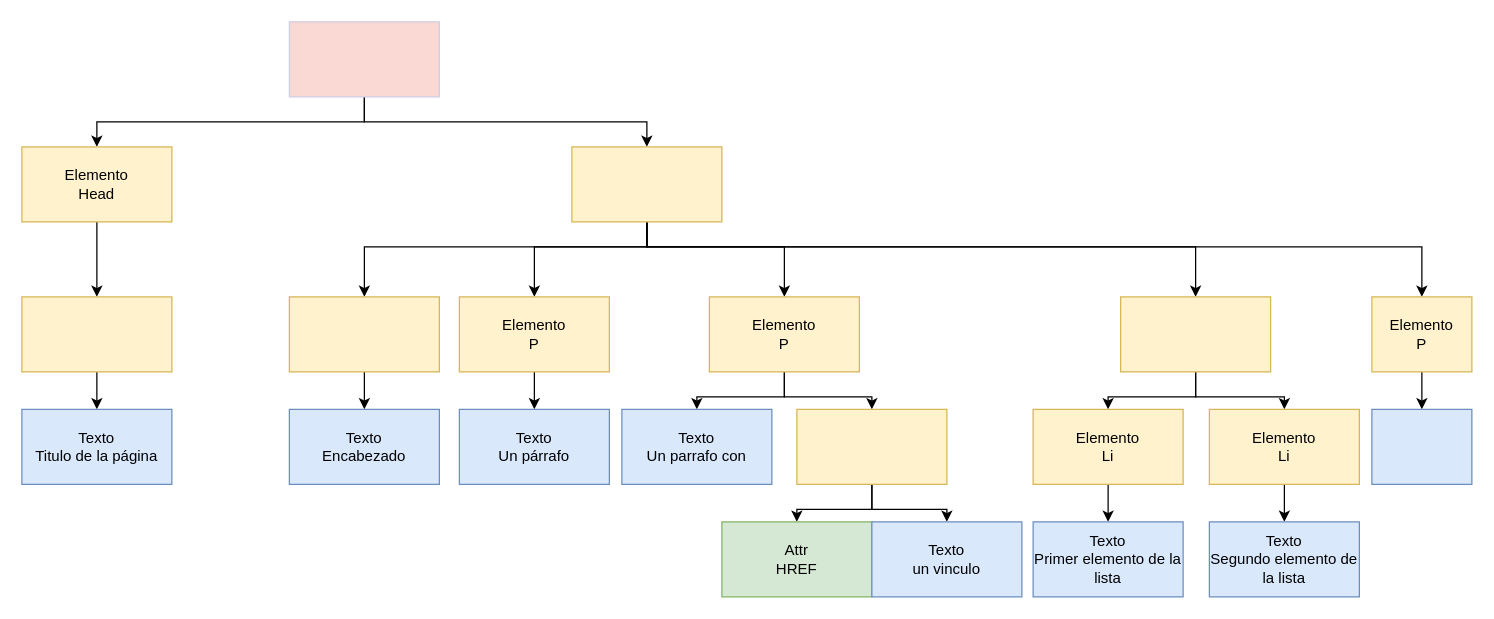
Image size: 1494x619. Some labels were removed from this diagram. Here are the shapes that lost their labels. From the top down, the centre of each, then its label:
At point 363,59: "Documento XHTML".
At point 646,184: "Elemento Body".
At point 96,334: "Elemento Title".
At point 363,334: "Elemento H1".
At point 1195,334: "Elemento Ul".
At point 871,446: "Elemento A".
At point 1421,446: "Texto Otro parrafo".
